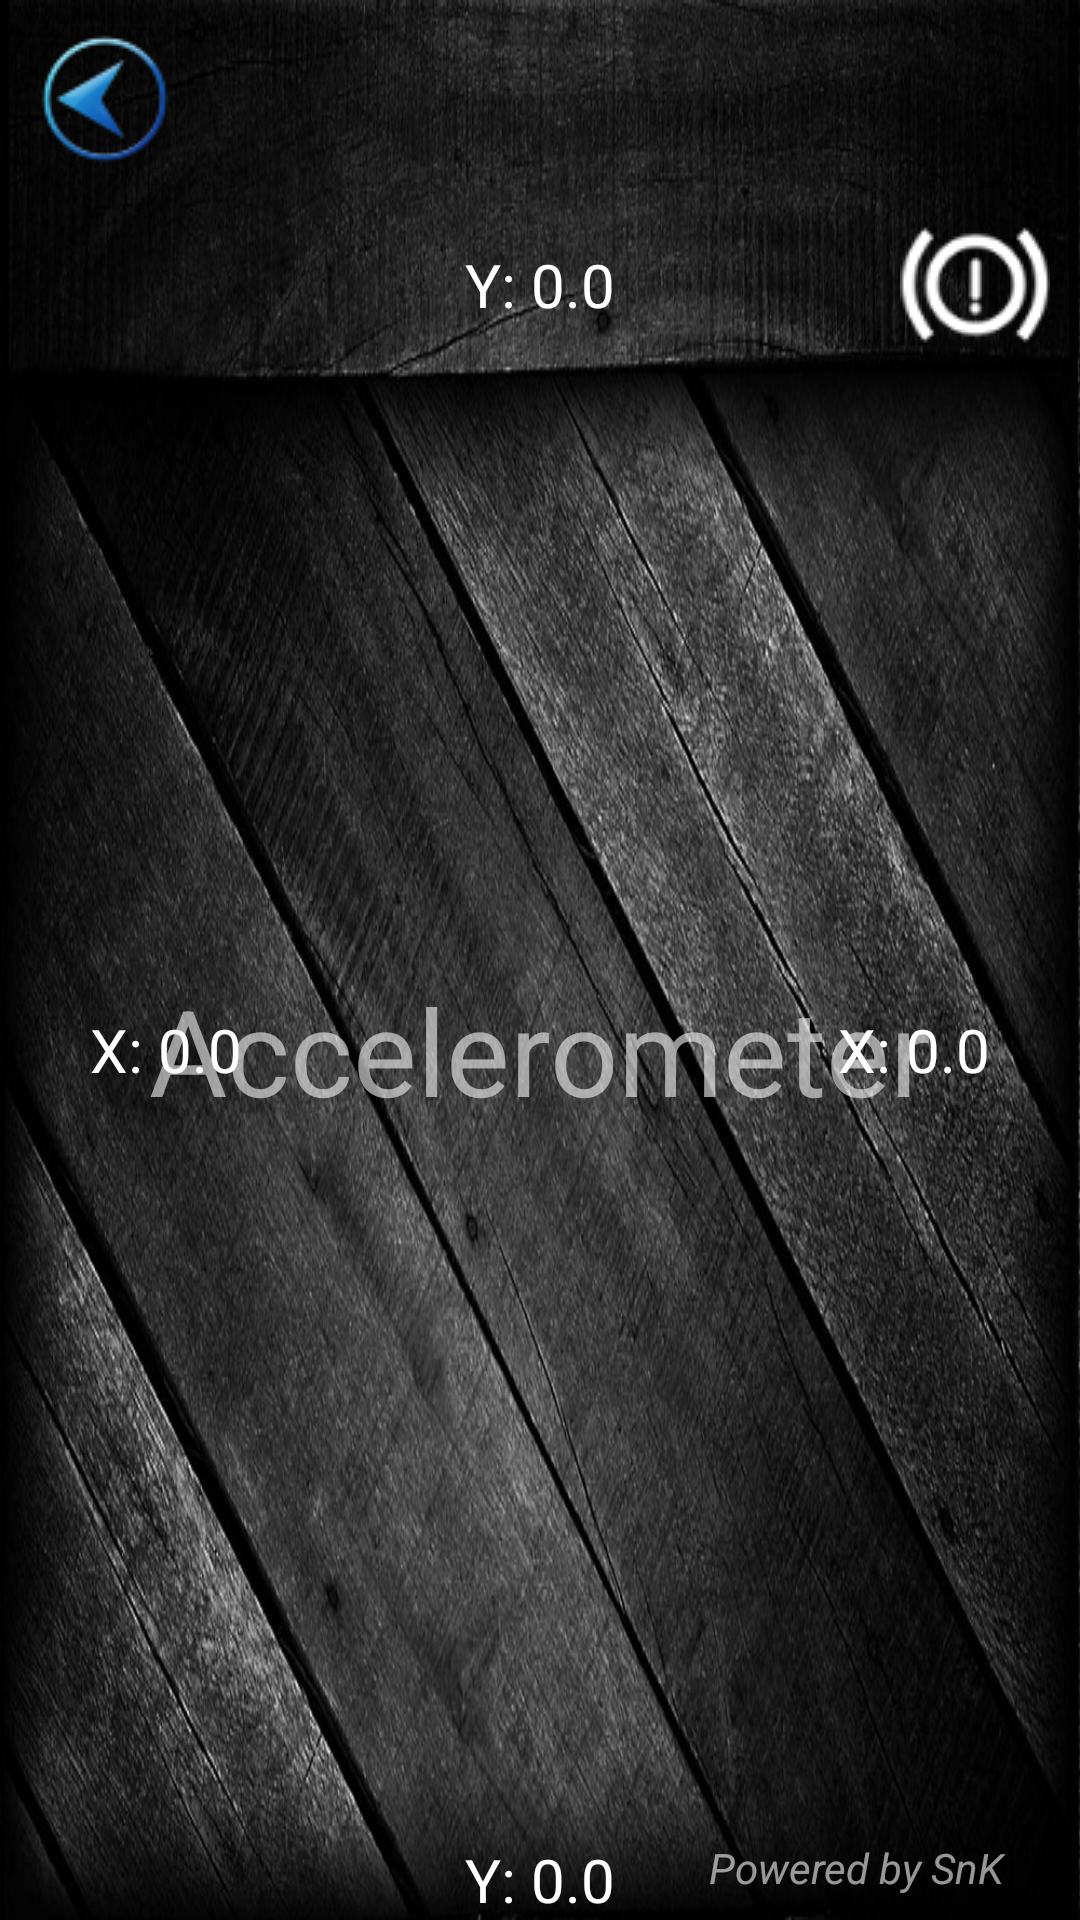

Where icons sit on this 1080 x 1920 app screen, as (x1, y1, x2, y2):
back before click: (42, 36, 175, 167)
warning: (900, 212, 1050, 354)
